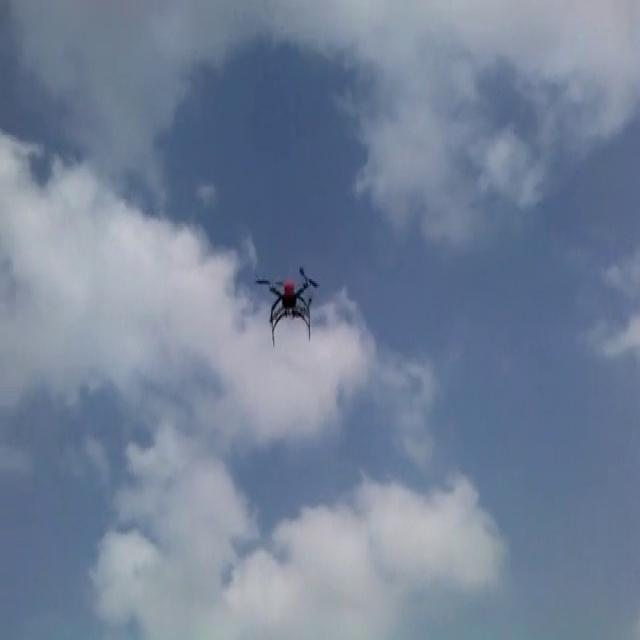drone: (255, 265, 319, 347)
